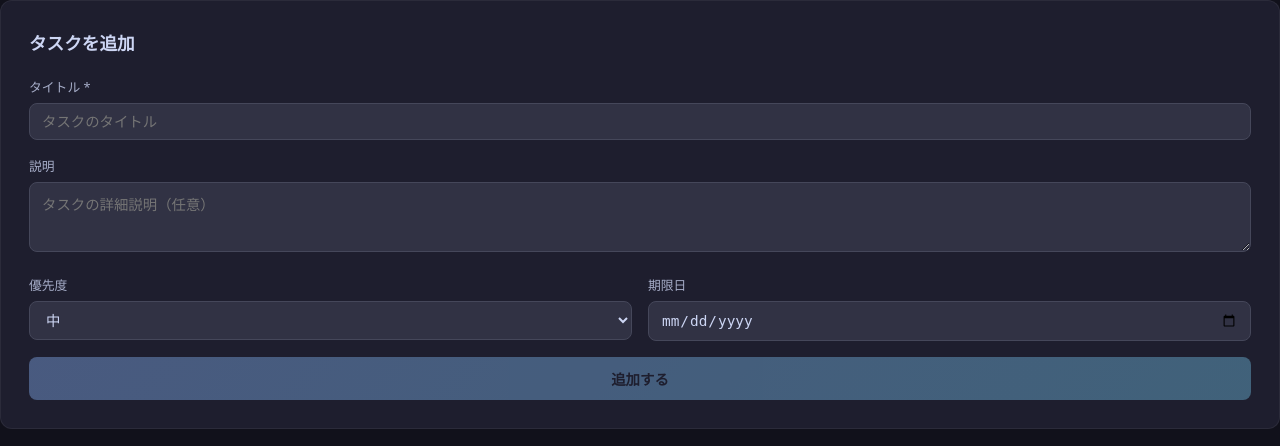
Test: TaskForm.vue › 送信ボタン › 有効な入力後に活性化される
Type "テストタスク" into the field with test id "input-title". click: (640, 122)
box: [29,103,1251,140]
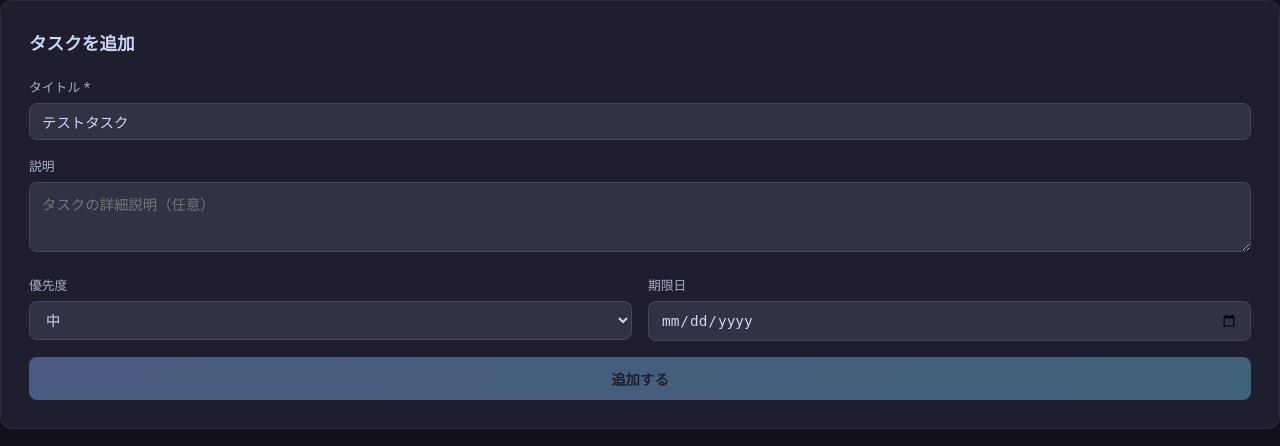
Leave the field with test id "input-title", box [29,103,1251,140]
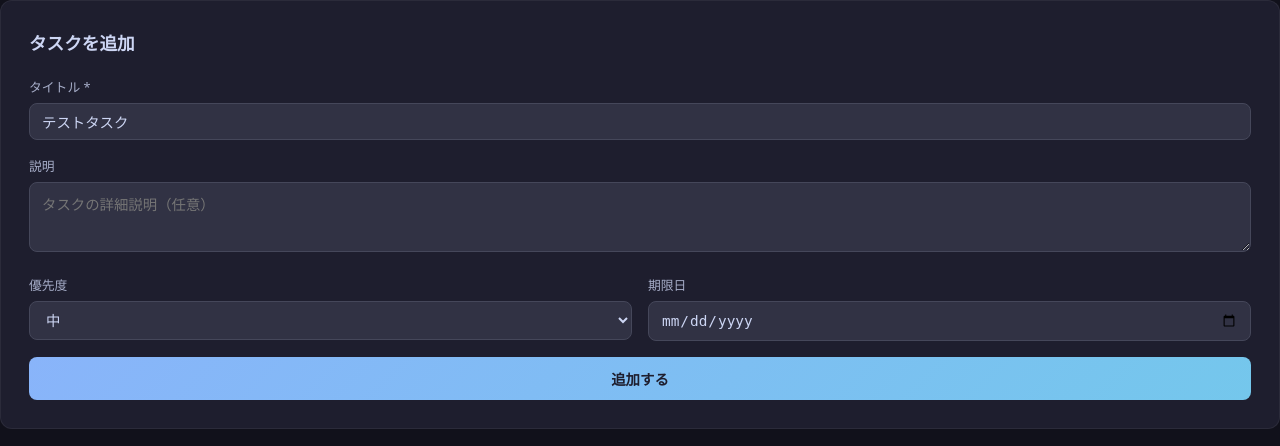
expect the button with test id "submit-btn" is enabled: met, box [29,357,1251,400]
